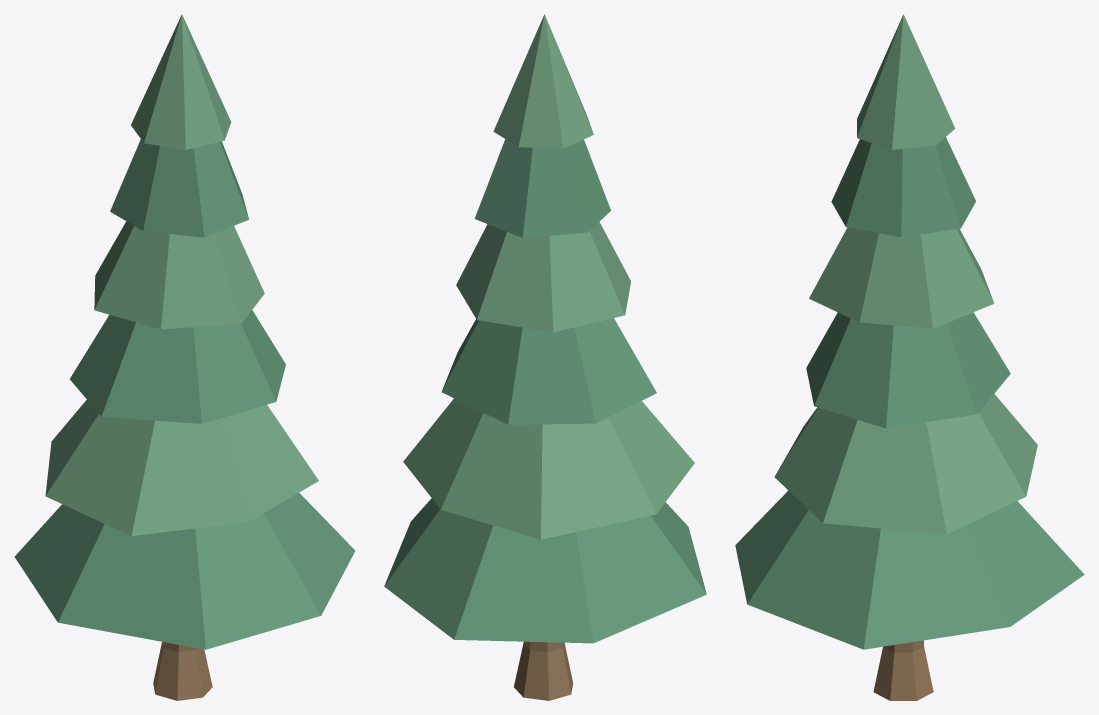
Rendered from Tree_Pine.fbx.
3 renders of one model, left to right at view 1: azimuth 30°, elevation 25°; view 2: azimuth 150°, elevation 25°; view 3: azimuth 270°, elevation 25°, orthographic.
Parts seen in each view (by area): view 1: Tree_Pine; view 2: Tree_Pine; view 3: Tree_Pine.
Part boxes in pixels (x1,y1,x2,y2): Tree_Pine: [14, 14, 355, 700]; Tree_Pine: [384, 14, 706, 700]; Tree_Pine: [735, 14, 1084, 700].
Size of the model in its own units: 2.44 by 5.3 by 2.49.
